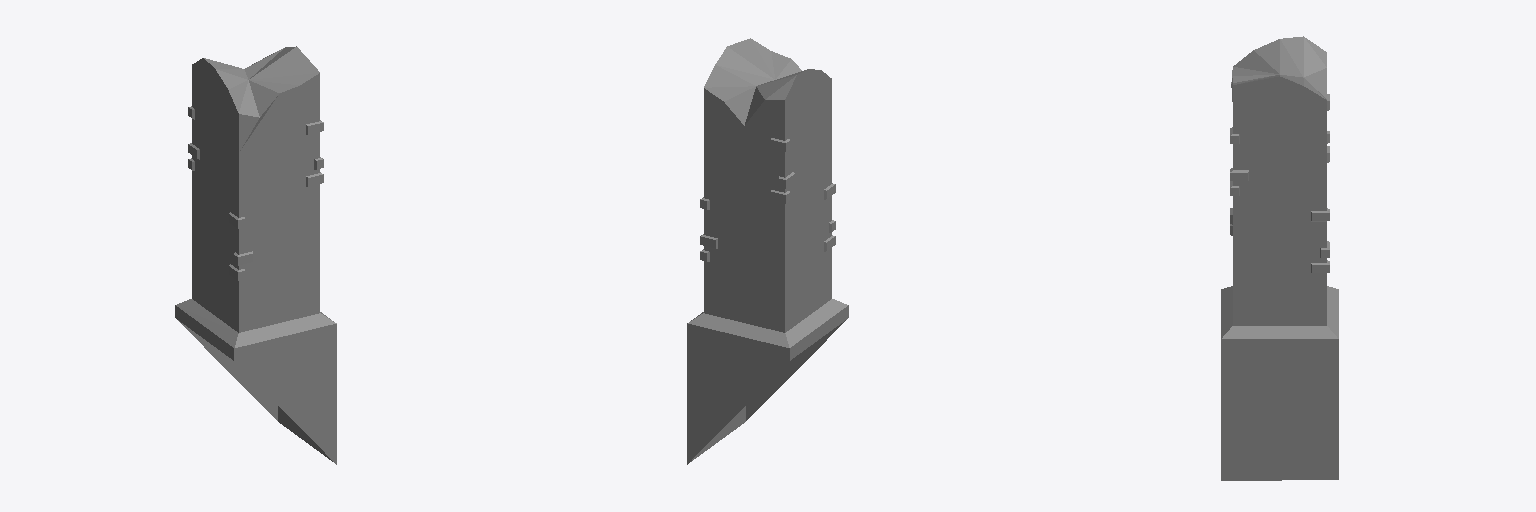
File: Tower_Broken.obj
3 renders of one model, left to right at view 1: azimuth 30°, elevation 25°; view 2: azimuth 150°, elevation 25°; view 3: azimuth 270°, elevation 25°, orthographic.
Visible parts, largest first — view 1: Palette; view 2: Palette; view 3: Palette.
Part boxes in pixels (x1,y1,x2,y2): Palette: (175,46,336,464); Palette: (687,38,848,464); Palette: (1221,36,1338,480).
Size of the model in its own units: 5 by 18.66 by 5.